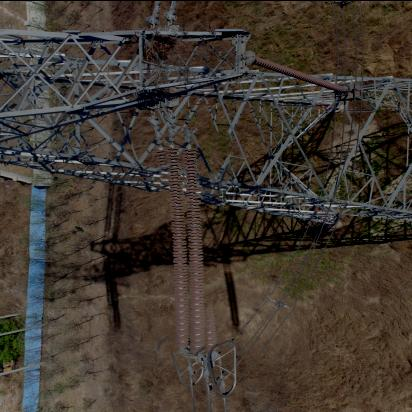insulator: (148, 127, 228, 356)
